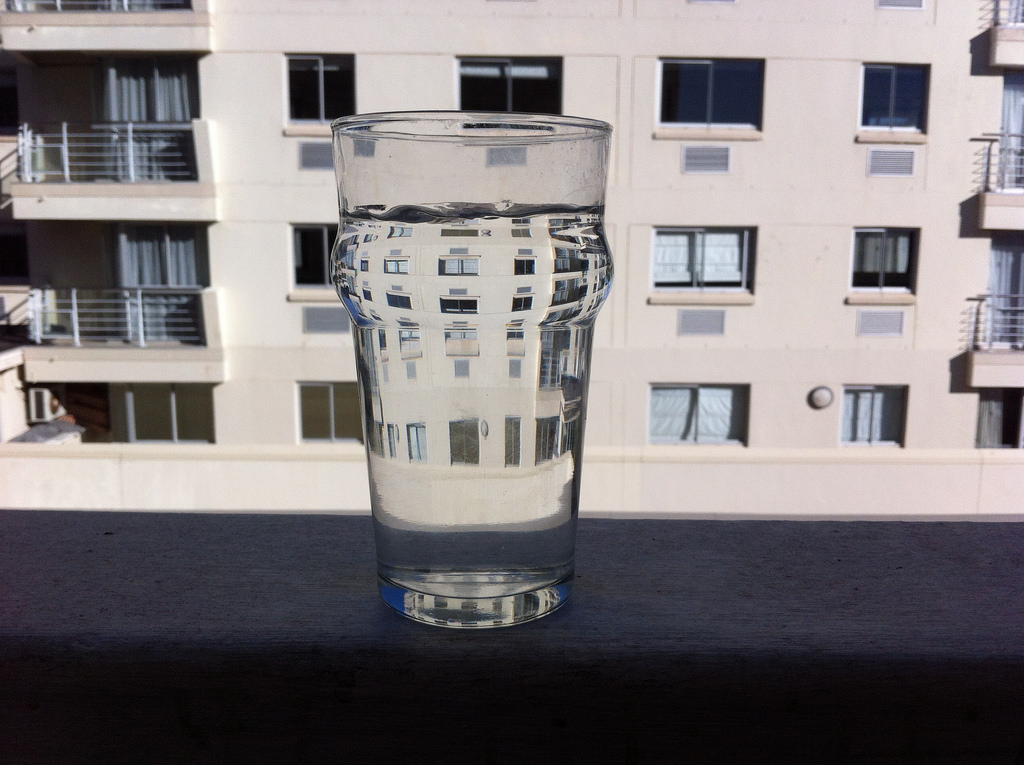glass of water: (307, 113, 616, 652)
